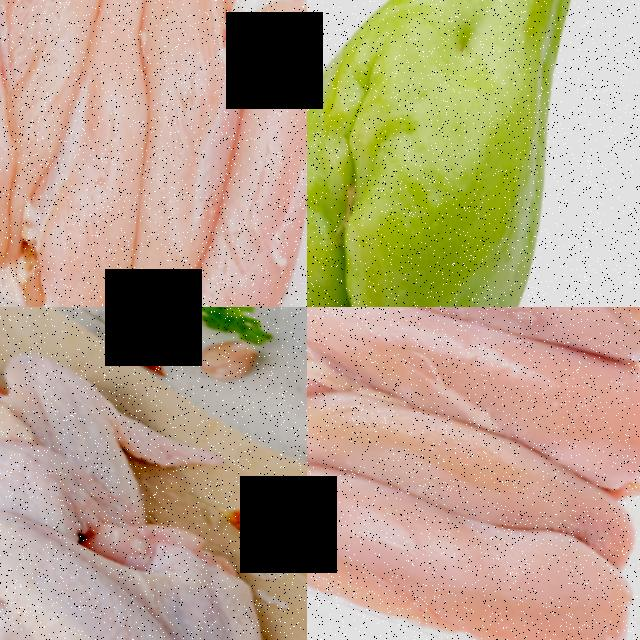chayote: (307, 0, 640, 307)
chicken breast: (307, 342, 640, 571), (50, 0, 285, 307), (307, 436, 632, 640), (0, 0, 203, 307), (307, 307, 640, 482), (130, 0, 307, 307), (0, 0, 145, 307), (307, 307, 640, 379)
chicken wing: (0, 423, 291, 640)
